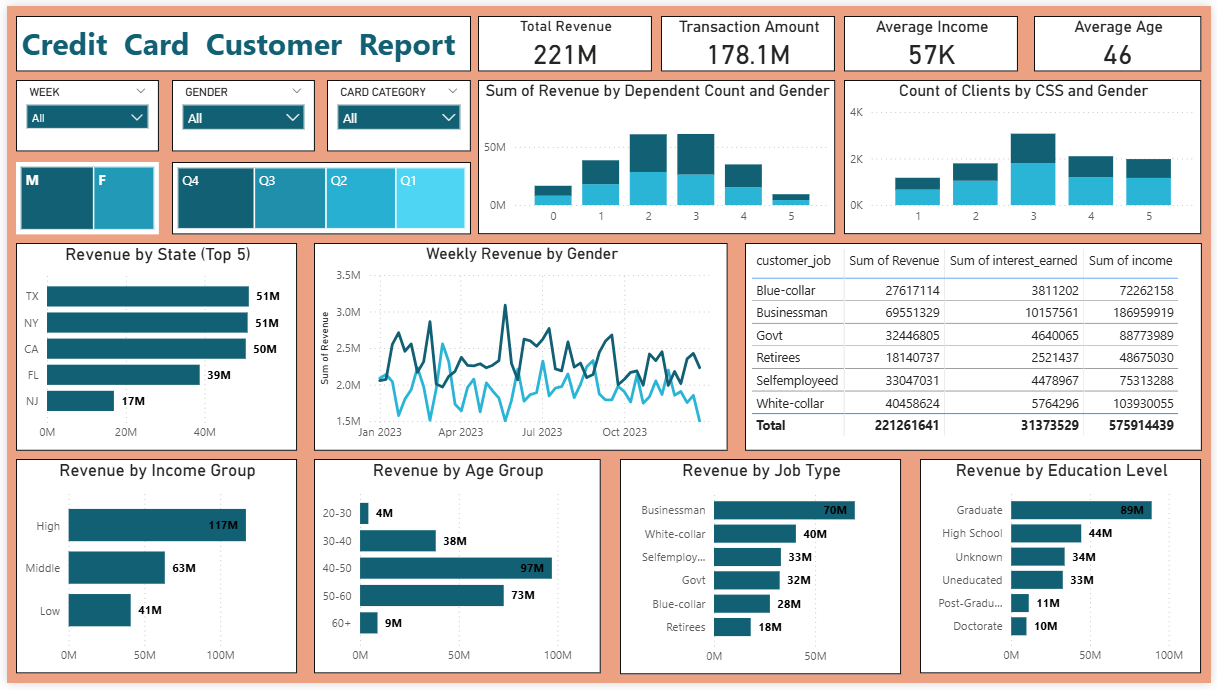

What the dashboard file says about the page in this screenshot:
{"tool":"powerbi","page":{"name":"CC Customer","canvas":[1280,720],"ordinal":2},"visuals":[{"type":"textbox","box":[9.3,11.1,483.8,59.3],"z":0},{"type":"clusteredBarChart","title":"Revenue by Income Group","fields":{"Y":["Sum(public cc_detail.Revenue)"],"Category":["public cust_detail.IncomeGroup"]},"box":[9.3,482,299,228],"z":1000},{"type":"tableEx","fields":{"Values":["public cust_detail.customer_job","Sum(public cc_detail.Revenue)","Sum(public cc_detail.interest_earned)","public cust_detail.income"]},"box":[785.1,252.1,485.7,220.6],"z":2000},{"type":"slicer","fields":{"Values":["public cc_detail.week_start_date"]},"box":[9.3,78.8,152,76],"z":3000},{"type":"treemap","fields":{"Values":["Sum(public cc_detail.client_num)"],"Group":["public cc_detail.qtr"]},"box":[175.2,165.9,317.9,76.9],"z":4000},{"type":"slicer","fields":{"Values":["public cust_detail.gender"]},"box":[175.2,78.8,152,76],"z":5000},{"type":"slicer","fields":{"Values":["public cc_detail.card_category"]},"box":[340.2,78.8,152.9,76],"z":6000},{"type":"card","title":"Average Age","fields":{"Values":["Avg(public cust_detail.customer_age)"]},"box":[1092.8,11.1,178,59.3],"z":7000},{"type":"card","title":"Total Revenue","fields":{"Values":["Sum(public cc_detail.Revenue)"]},"box":[501.4,11.1,185.4,59.3],"z":8000},{"type":"card","title":"Transaction Amount","fields":{"Values":["Sum(public cc_detail.total_trans_amt)"]},"box":[696.1,11.1,185.4,59.3],"z":9000},{"type":"card","title":"Average Income","fields":{"Values":["Avg(public cust_detail.income)"]},"box":[890.7,11.1,185.4,59.3],"z":10000},{"type":"lineChart","title":"Weekly Revenue by Gender","fields":{"Y":["Sum(public cc_detail.Revenue)"],"Series":["public cust_detail.gender"],"Category":["public cc_detail.week_start_date.Variation.Date Hierarchy.Year","public cc_detail.week_start_date.Variation.Date Hierarchy.Month","public cc_detail.week_start_date.Variation.Date Hierarchy.Day"]},"box":[326.3,252.1,440.3,220.6],"z":11000},{"type":"treemap","fields":{"Group":["public cust_detail.gender"],"Values":["Sum(public cc_detail.Revenue)"]},"box":[9.3,165.9,152,76.9],"z":12000},{"type":"clusteredBarChart","title":"Revenue by Age Group","fields":{"Y":["Sum(public cc_detail.Revenue)"],"Category":["public cust_detail.AgeGroup"]},"box":[326.3,482,304.9,228],"z":13000},{"type":"clusteredBarChart","title":"Revenue by Job Type","fields":{"Y":["Sum(public cc_detail.Revenue)"],"Category":["public cust_detail.customer_job"]},"box":[652.5,482,299.4,228.9],"z":14000},{"type":"clusteredBarChart","title":"Revenue by Education Level","fields":{"Y":["Sum(public cc_detail.Revenue)"],"Category":["public cust_detail.education_level"]},"box":[971.4,482,299.4,228],"z":15000},{"type":"clusteredBarChart","title":"Revenue by State (Top 5)","fields":{"Y":["Sum(public cc_detail.Revenue)"],"Category":["public cust_detail.state_cd"]},"box":[9.3,252.1,299.4,220.6],"z":16000},{"type":"columnChart","title":"Sum of Revenue by Dependent Count and Gender","fields":{"Y":["Sum(public cc_detail.Revenue)"],"Category":["public cust_detail.dependent_count"],"Series":["public cust_detail.gender"]},"box":[501.4,78.8,380,164.1],"z":17000},{"type":"columnChart","title":"Count of Clients by CSS and Gender","fields":{"Category":["public cust_detail.cust_satisfaction_score"],"Series":["public cust_detail.gender"],"Y":["CountNonNull(public cust_detail.client_num)"]},"box":[890.7,78.8,380,164.1],"z":18000}]}

Visuals, with their boxes in screenshot pixels (x1, y1, x2, y2), scaled from the page's 1280x720 canvas onto the 1217x690 screenshot:
textbox: 9/11/469/67
"Revenue by Income Group" clusteredBarChart: 9/462/293/680
tableEx - public cust_detail.customer_job x Sum(public cc_detail.Revenue): 746/242/1208/453
slicer - public cc_detail.week_start_date: 9/76/153/148
treemap - Sum(public cc_detail.client_num) x public cc_detail.qtr: 167/159/469/233
slicer - public cust_detail.gender: 167/76/311/148
slicer - public cc_detail.card_category: 323/76/469/148
"Average Age" card: 1039/11/1208/67
"Total Revenue" card: 477/11/653/67
"Transaction Amount" card: 662/11/838/67
"Average Income" card: 847/11/1023/67
"Weekly Revenue by Gender" lineChart: 310/242/729/453
treemap - public cust_detail.gender x Sum(public cc_detail.Revenue): 9/159/153/233
"Revenue by Age Group" clusteredBarChart: 310/462/600/680
"Revenue by Job Type" clusteredBarChart: 620/462/905/681
"Revenue by Education Level" clusteredBarChart: 924/462/1208/680
"Revenue by State (Top 5)" clusteredBarChart: 9/242/294/453
"Sum of Revenue by Dependent Count and Gender" columnChart: 477/76/838/233
"Count of Clients by CSS and Gender" columnChart: 847/76/1208/233
